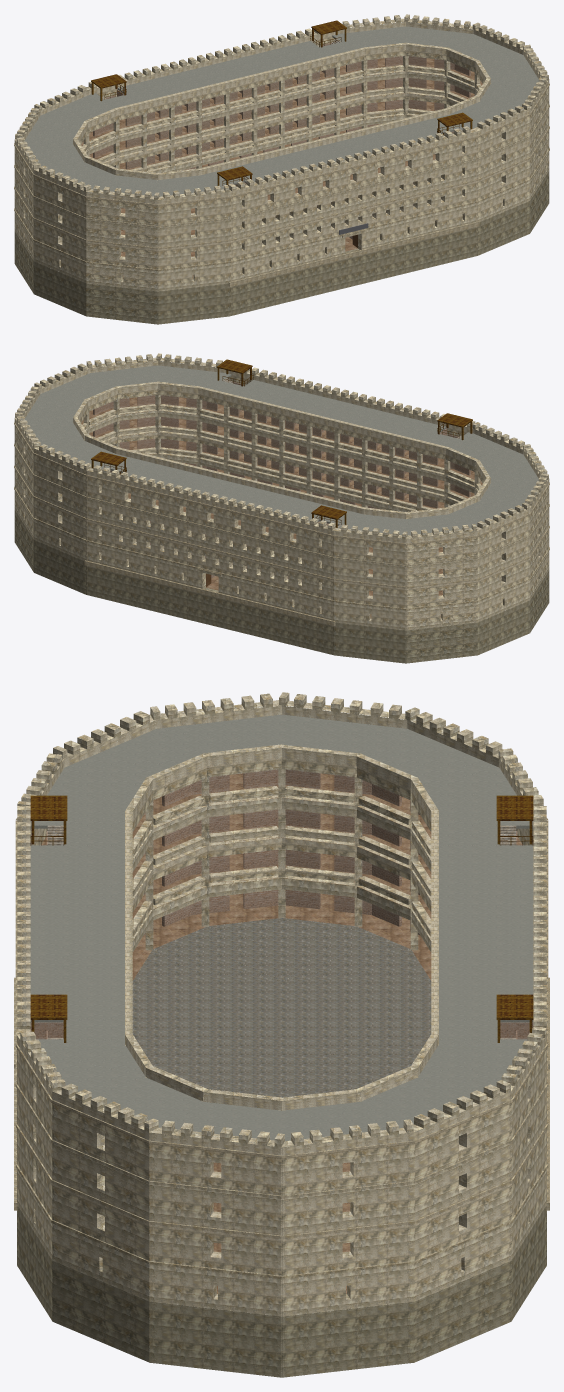
The model's file is bw-keep.gaps-v1.lod0.glb.
3 views of the same model, one above another, from view 1: azimuth 30°, elevation 25°; view 2: azimuth 150°, elevation 25°; view 3: azimuth 270°, elevation 25° (orthographic). The views are drawn at different scales.
Parts seen in each view (by area): view 1: bw-keep; view 2: bw-keep; view 3: bw-keep.
Part boxes in pixels (<box>): bw-keep: <box>14,14,549,324</box>; bw-keep: <box>14,353,549,663</box>; bw-keep: <box>14,692,549,1377</box>.
Size of the model in its own units: 110 by 28.35 by 55.7.
Materials: 9 (8 with a texture image).
